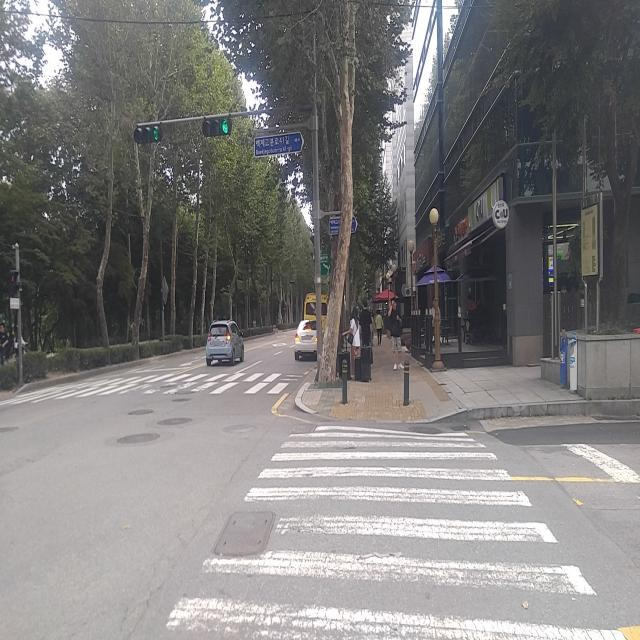횡단보도: (165, 423, 629, 640), (1, 368, 302, 409)
